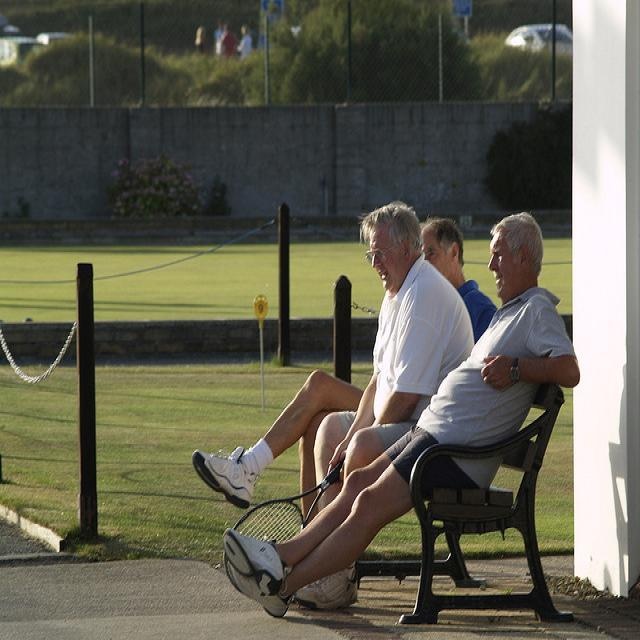Vehicle: (504, 23, 573, 47)
